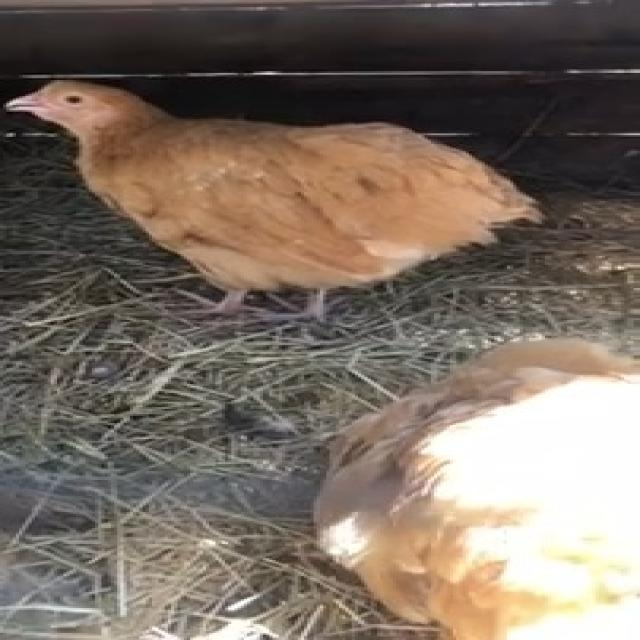Breathing: (13, 76, 545, 324)
